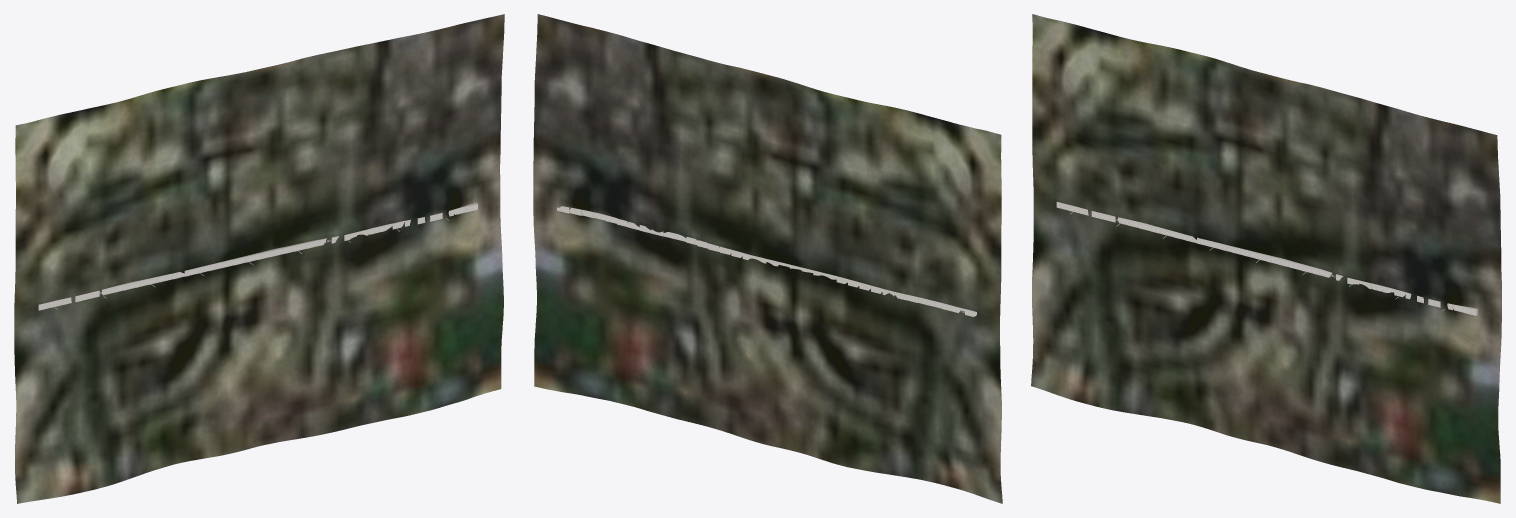
The model's file is qingyuan-railway.glb.
3 views of the same model, side by side, from view 1: azimuth 30°, elevation 25°; view 2: azimuth 150°, elevation 25°; view 3: azimuth 330°, elevation 25° (orthographic).
Parts seen in each view (by area): view 1: RealTerrain; view 2: RealTerrain; view 3: RealTerrain.
Boxes of the visible parts, x1,y1,x2,y2 form: RealTerrain: (14, 14, 504, 503); RealTerrain: (533, 14, 1002, 503); RealTerrain: (1031, 14, 1501, 503).
Size of the model in its own units: 600 by 450 by 22.32.
2 materials, 1 textured.
